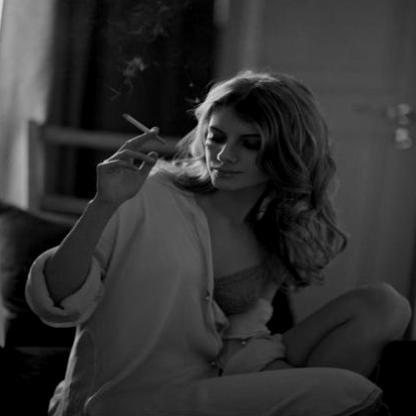cigarette: (122, 111, 168, 146)
person: (64, 66, 360, 416)
